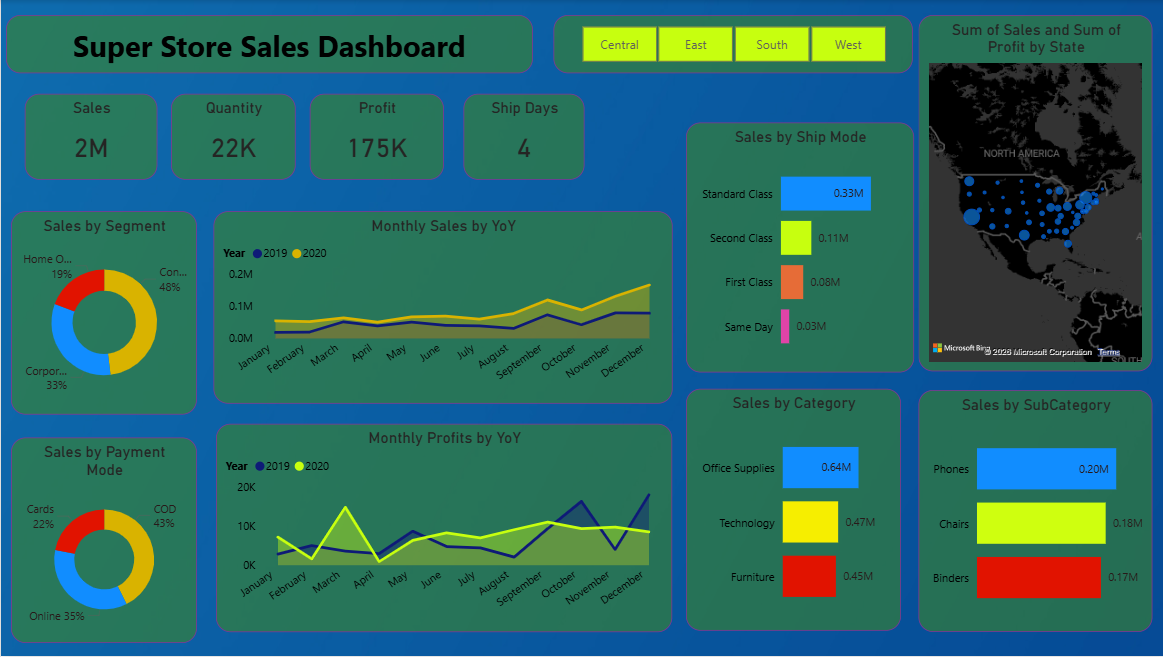

This screenshot's page, from the dashboard's own definition file:
{"tool":"powerbi","page":{"name":"Page 1","canvas":[1280,720],"ordinal":0},"visuals":[{"type":"clusteredBarChart","title":"Sales by Category","fields":{"Category":["SuperStore_Sales_Dataset.Category"],"Y":["Sum(SuperStore_Sales_Dataset.Sales)"]},"box":[751.4,427.1,235.7,265.7],"z":0},{"type":"clusteredBarChart","title":"Sales by SubCategory","fields":{"Category":["SuperStore_Sales_Dataset.Sub-Category"],"Y":["Sum(SuperStore_Sales_Dataset.Sales)"]},"box":[1007.1,428.6,257.1,265.7],"z":1000},{"type":"clusteredBarChart","title":"Sales by Ship Mode","fields":{"Category":["SuperStore_Sales_Dataset.Ship Mode"],"Y":["Sum(SuperStore_Sales_Dataset.Sales)"]},"box":[751.4,134.3,250,274.3],"z":2000},{"type":"areaChart","title":"Monthly Sales by YoY","fields":{"Y":["Sum(SuperStore_Sales_Dataset.Sales)"],"Series":["SuperStore_Sales_Dataset.Order Date.Variation.Date Hierarchy.Year"],"Category":["SuperStore_Sales_Dataset.Order Date.Variation.Date Hierarchy.Month"]},"box":[232.9,231.4,504.3,211.4],"z":3000},{"type":"areaChart","title":"Monthly Profits by YoY","fields":{"Series":["SuperStore_Sales_Dataset.Order Date.Variation.Date Hierarchy.Year"],"Category":["SuperStore_Sales_Dataset.Order Date.Variation.Date Hierarchy.Month"],"Y":["Sum(SuperStore_Sales_Dataset.Profit)"]},"box":[236,465.2,500.9,229.2],"z":4000},{"type":"map","title":"Sum of Sales and Sum of Profit by State","fields":{"Category":["SuperStore_Sales_Dataset.State"],"Size":["Sum(SuperStore_Sales_Dataset.Sales)"]},"box":[1007.1,17.1,257.1,391.4],"z":5000},{"type":"donutChart","title":" Sales by Segment","fields":{"Category":["SuperStore_Sales_Dataset.Segment"],"Y":["Sum(SuperStore_Sales_Dataset.Sales)"]},"box":[11.4,231.4,204.3,222.9],"z":6000},{"type":"donutChart","title":"Sales by Payment Mode","fields":{"Category":["SuperStore_Sales_Dataset.Payment Mode"],"Y":["Sum(SuperStore_Sales_Dataset.Sales)"]},"box":[11.4,480,204.3,225.7],"z":7000},{"type":"slicer","fields":{"Values":["SuperStore_Sales_Dataset.Region"]},"box":[607.1,17.1,394.3,64.3],"z":8000},{"type":"textbox","box":[5.7,17.1,578.6,64.3],"z":9000},{"type":"card","title":"Sales","fields":{"Values":["Sum(SuperStore_Sales_Dataset.Sales)"]},"box":[25.7,102.9,145.7,94.3],"z":10000},{"type":"card","title":"Quantity","fields":{"Values":["Sum(SuperStore_Sales_Dataset.Quantity)"]},"box":[187.1,102.9,137.1,94.3],"z":11000},{"type":"card","title":"Profit","fields":{"Values":["Sum(SuperStore_Sales_Dataset.Profit)"]},"box":[338.6,102.9,147.1,94.3],"z":12000},{"type":"card","title":"Ship Days","fields":{"Values":["Avg(SuperStore_Sales_Dataset.AvgDelivey)"]},"box":[507.1,102.9,132.9,94.3],"z":13000}]}

Visuals, with their boxes in screenshot pixels (x1, y1, x2, y2), scaled from the page's 1280x720 canvas onto the 1163x657 screenshot:
"Sales by Category" clusteredBarChart: (left=683, top=390, right=897, bottom=632)
"Sales by SubCategory" clusteredBarChart: (left=915, top=391, right=1149, bottom=634)
"Sales by Ship Mode" clusteredBarChart: (left=683, top=123, right=910, bottom=373)
"Monthly Sales by YoY" areaChart: (left=212, top=211, right=670, bottom=404)
"Monthly Profits by YoY" areaChart: (left=214, top=424, right=670, bottom=634)
"Sum of Sales and Sum of Profit by State" map: (left=915, top=16, right=1149, bottom=373)
" Sales by Segment" donutChart: (left=10, top=211, right=196, bottom=415)
"Sales by Payment Mode" donutChart: (left=10, top=438, right=196, bottom=644)
slicer - SuperStore_Sales_Dataset.Region: (left=552, top=16, right=910, bottom=74)
textbox: (left=5, top=16, right=531, bottom=74)
"Sales" card: (left=23, top=94, right=156, bottom=180)
"Quantity" card: (left=170, top=94, right=295, bottom=180)
"Profit" card: (left=308, top=94, right=441, bottom=180)
"Ship Days" card: (left=461, top=94, right=582, bottom=180)
